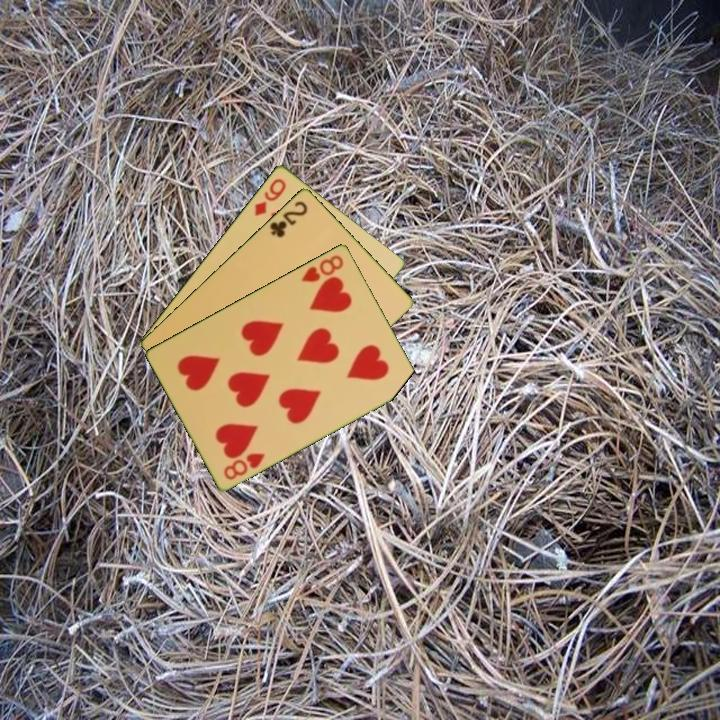2c: (266, 197, 310, 240)
8h: (298, 251, 347, 285), (220, 449, 268, 482)
9d: (251, 174, 289, 219)
